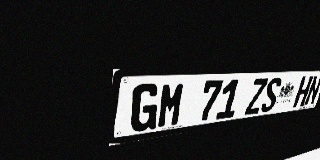1: (216, 79, 242, 120)
7: (196, 80, 224, 123)
G: (129, 83, 161, 133)
H: (292, 76, 313, 108)
M: (156, 82, 186, 129)
N: (304, 75, 320, 106)
S: (259, 77, 283, 113)
Z: (244, 78, 269, 115)
